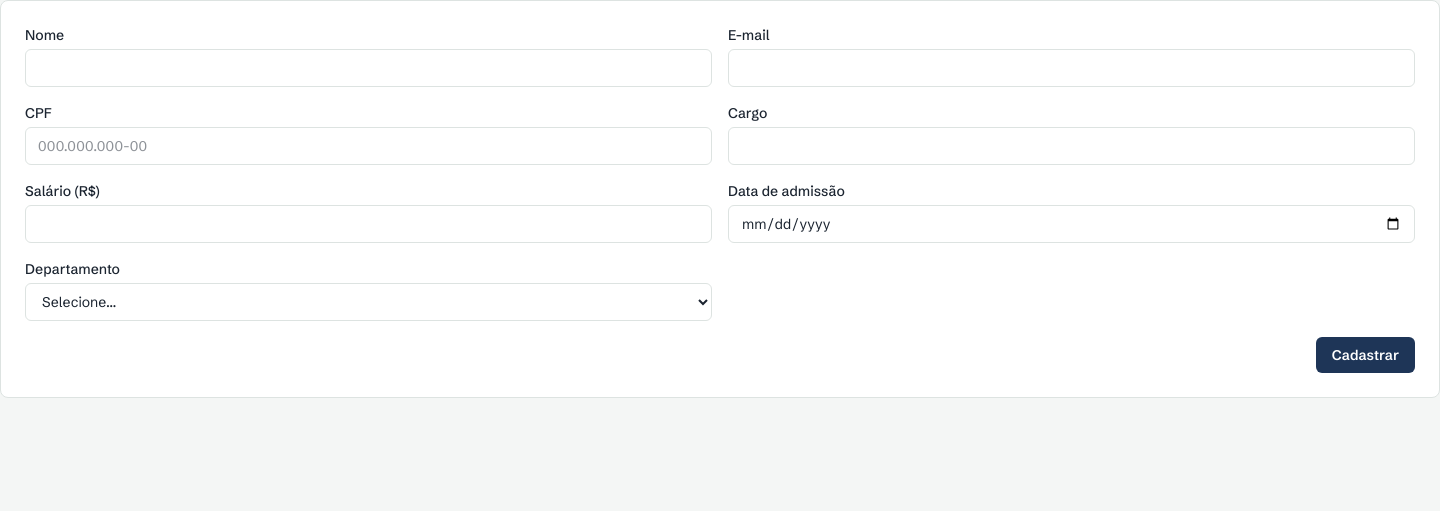
Test: EmployeeForm › shows an error for every required field and does not submit when empty
Click the button "Cadastrar".
click(1365, 355)  # box [1316,337,1415,373]
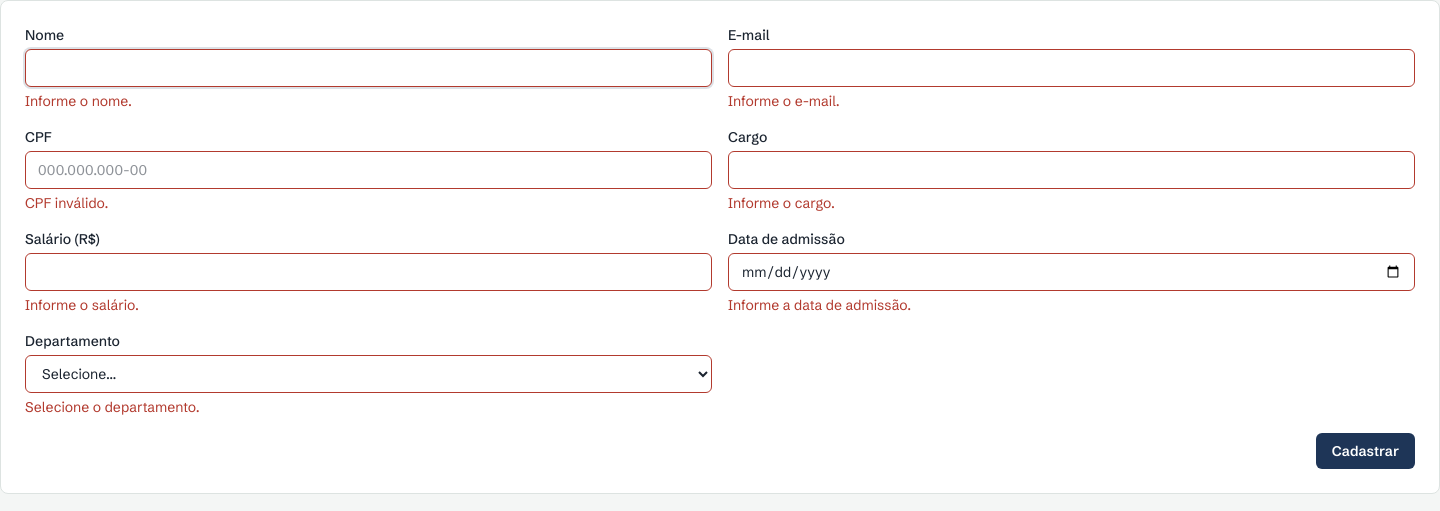
expect the text "Informe o nome." is shown: met, box [25,92,132,110]
expect the text "Informe o e-mail." is shown: met, box [728,92,840,110]
expect the text "CPF inválido." is shown: met, box [25,194,108,212]
